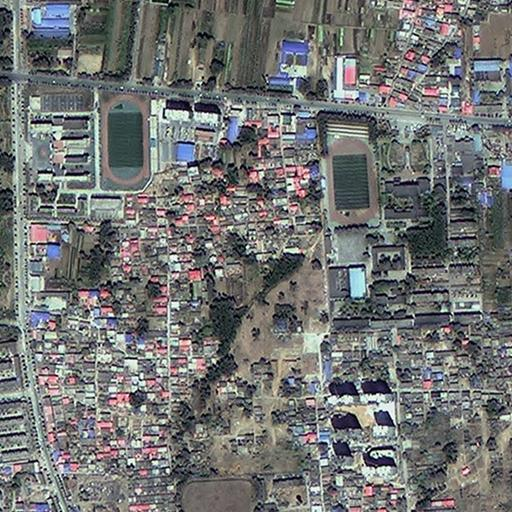school: (319, 111, 432, 302), (23, 83, 153, 220)
